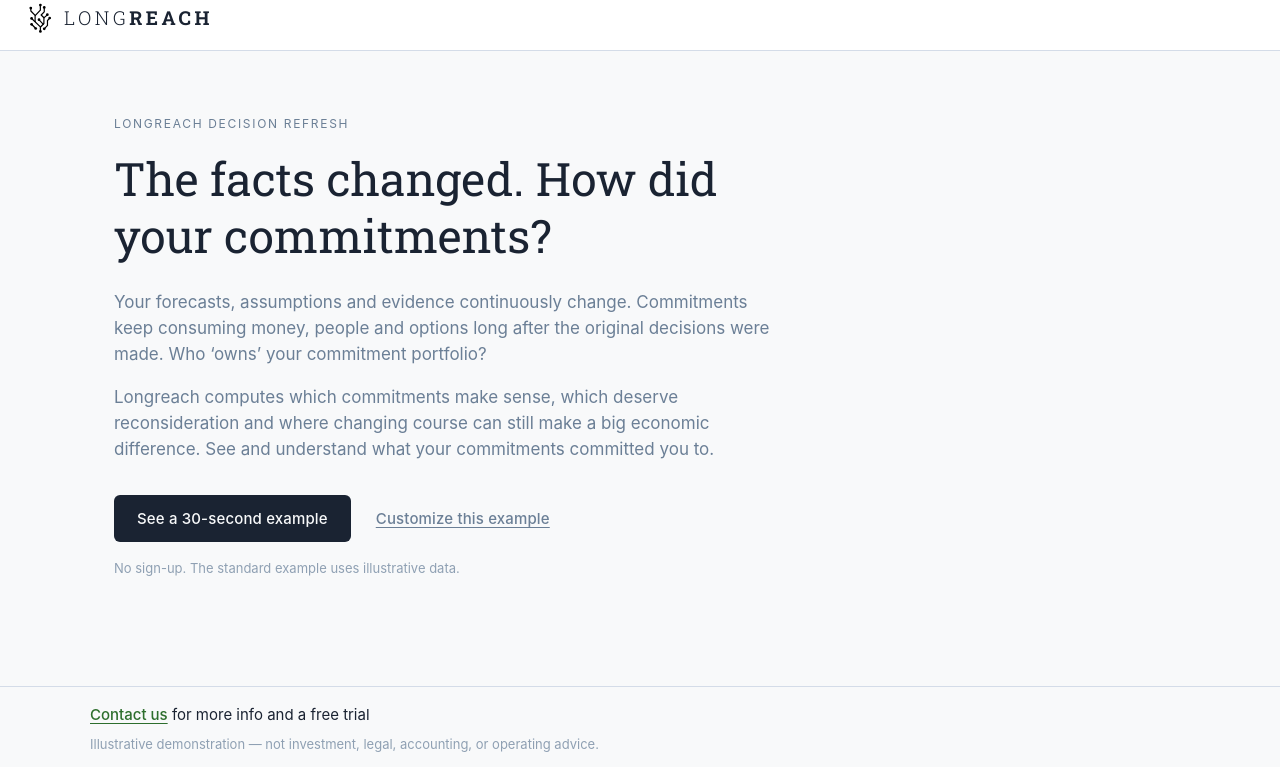
Test: text routing › a technology note routes to the technology template
Click the button "Customize this example": (463, 518) [375,500,551,537]
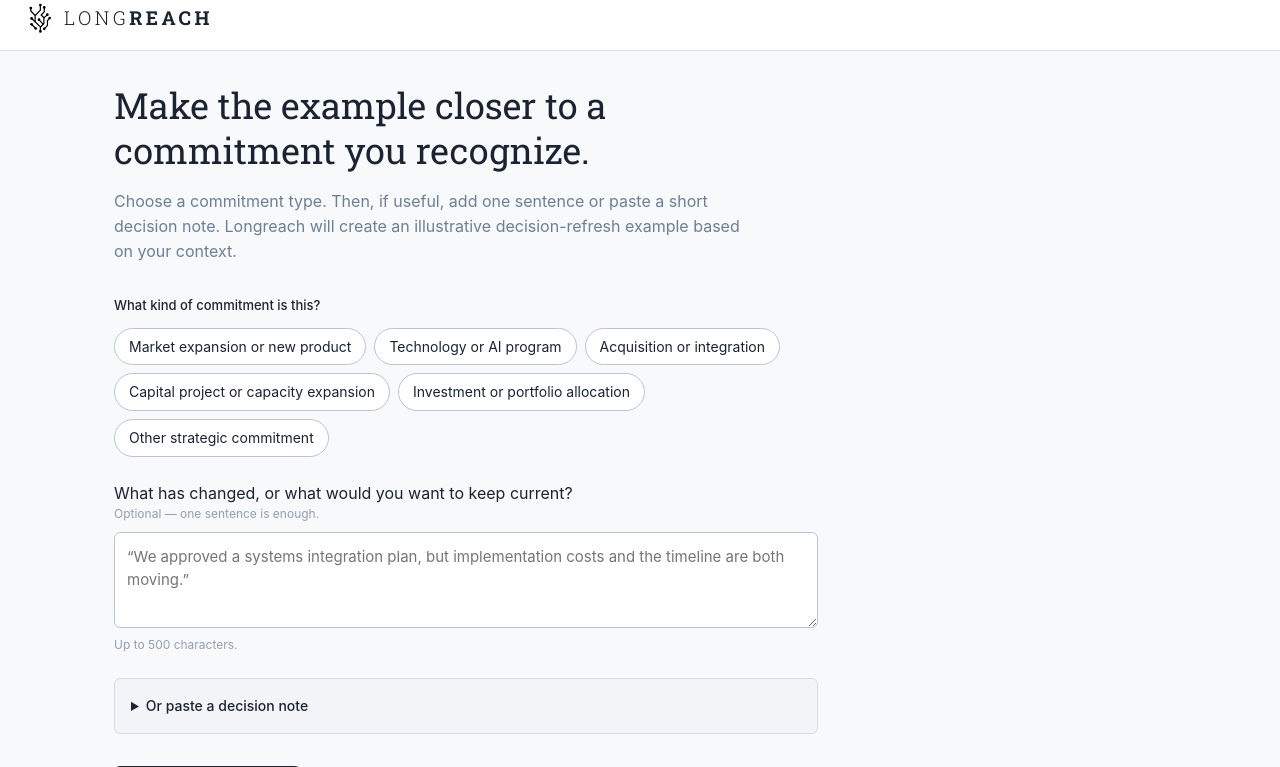
Click the button "Market expansion or new product": (240, 346) [114,328,366,365]
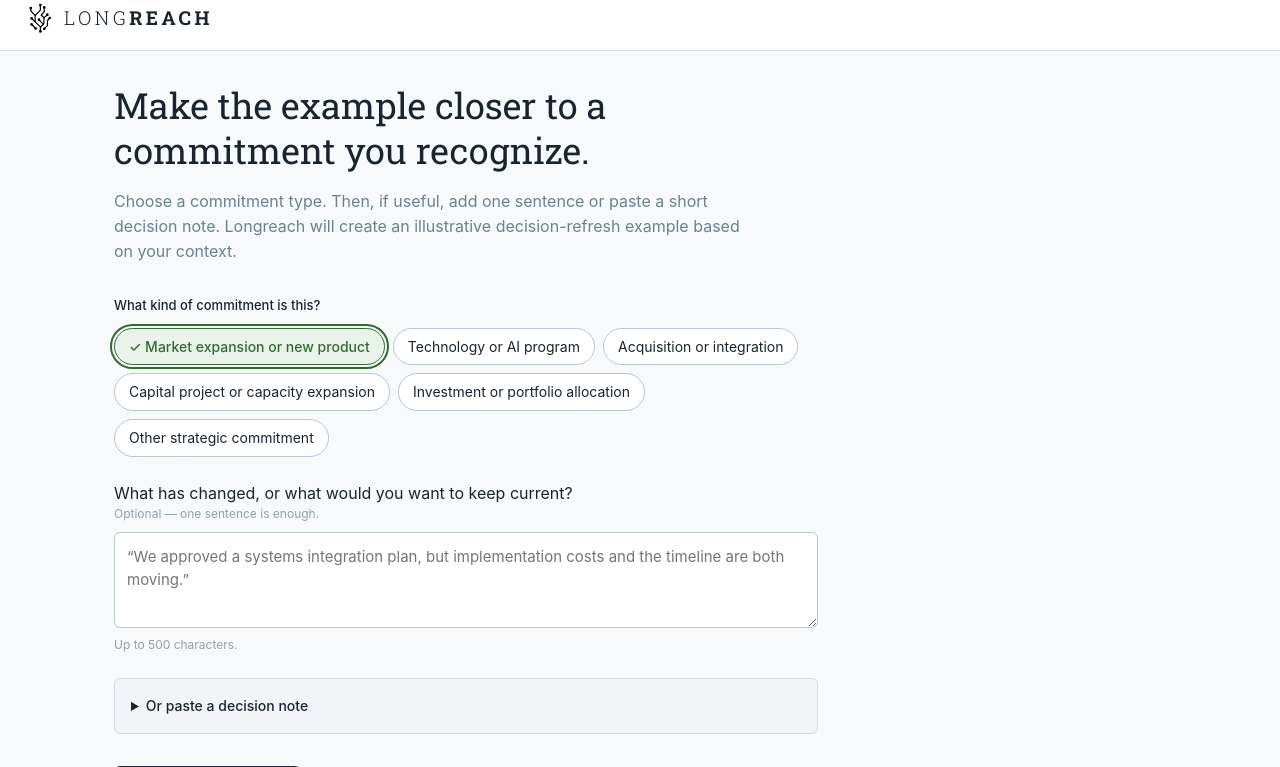
In the text box with placeholder "“We approved a systems integration plan, but implementation costs and the timeline are both moving.”": (466, 580) [114,532,818,628], type "Our $20M ERP migration and platform automation programme is over budget in March"
(page scrolled)
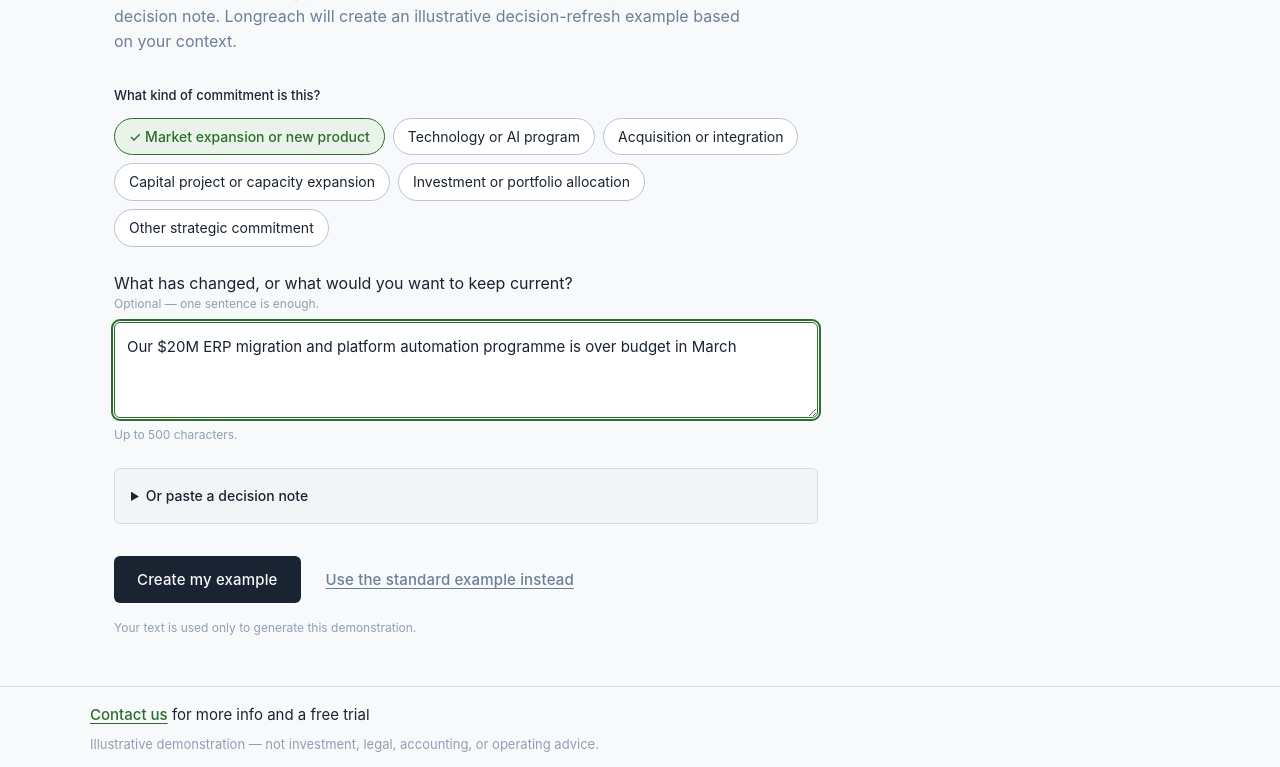
Click the button "Create my example": (207, 580) [114,556,301,603]
(page scrolled)
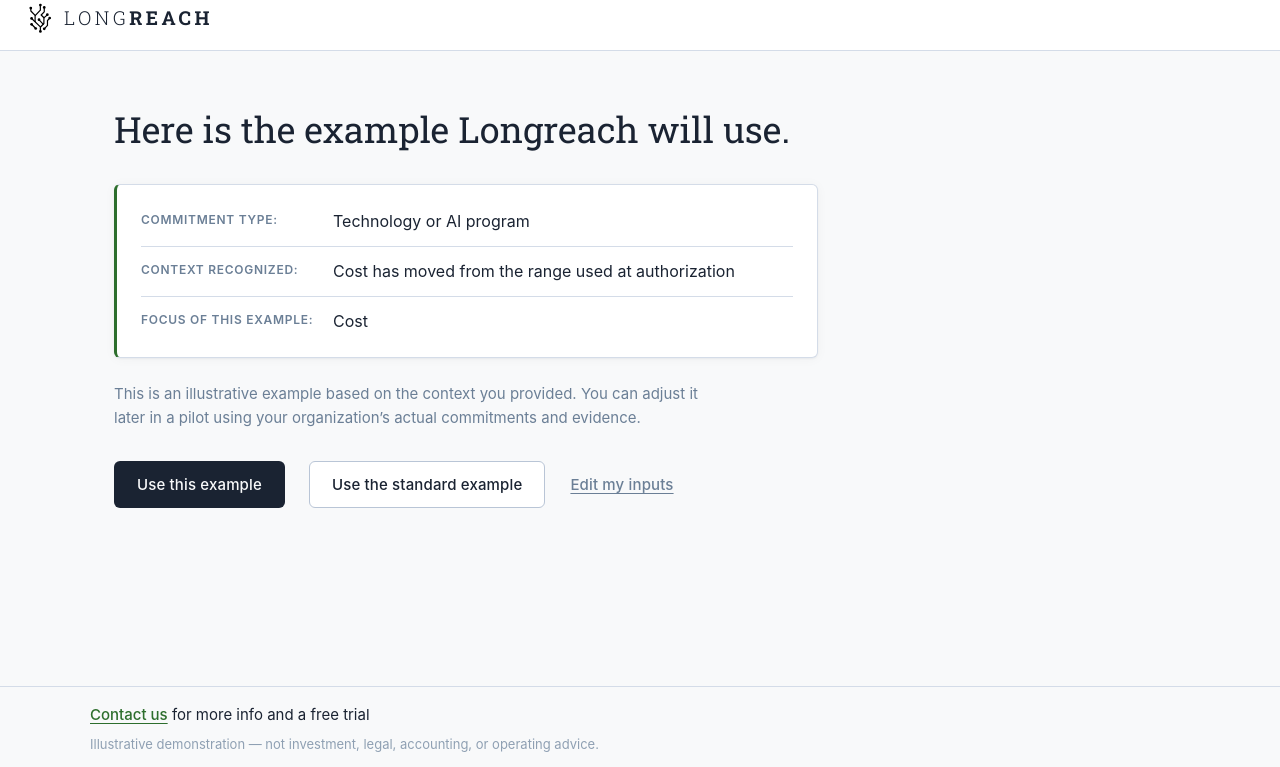
Expected: the text "Technology or AI program" is shown, [333,211,530,231]
Expected: the heading "Here is the example Longreach will use." is shown, [114,107,818,152]
Expected: the text "Cost has moved from the range used at authorization" is shown, [333,259,793,284]
